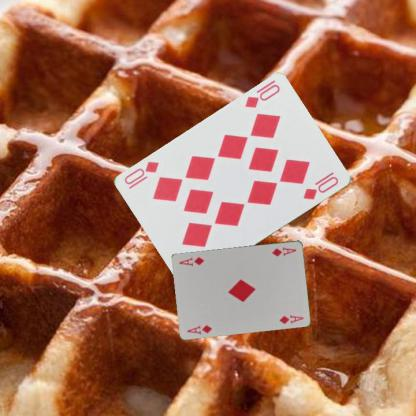10d: (242, 77, 281, 110)
Ad: (269, 244, 298, 258), (185, 322, 213, 335)
